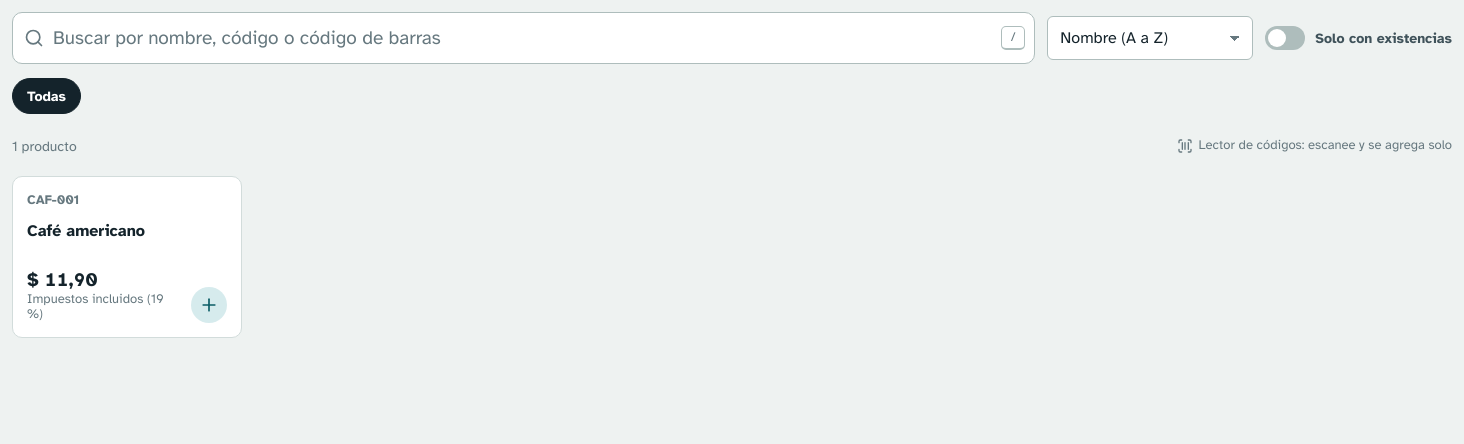
Test: Búsqueda del catálogo › cuando no hay resultados sugiere cómo seguir
Expected: the text "Café americano" is shown, [27,221,145,242]
Type "xyz" into the search field named "Buscar productos" at point(524, 38), box [12,12,1035,64]
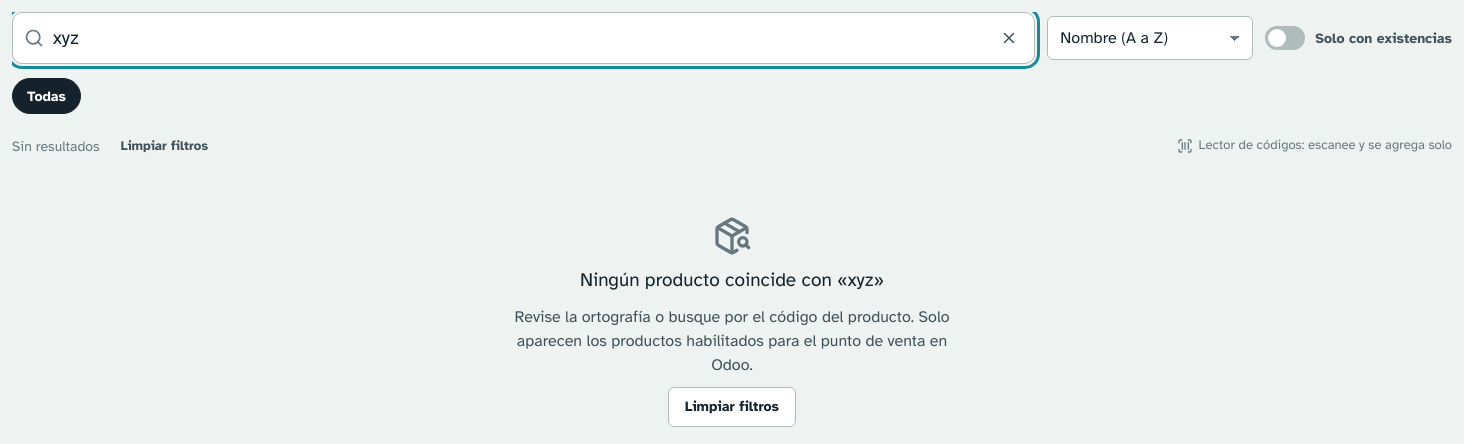
Result: the text "Ningún producto coincide con «xyz»" is shown at [580,266,884,294]
Result: the button "Limpiar filtros" next to "Sin resultados" is shown at [110,130,219,162]
